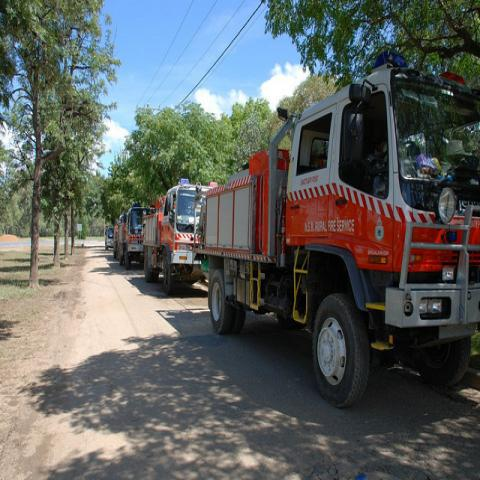truck: (193, 51, 479, 410), (141, 176, 219, 296), (119, 208, 151, 270), (104, 227, 114, 250), (114, 219, 119, 261)
